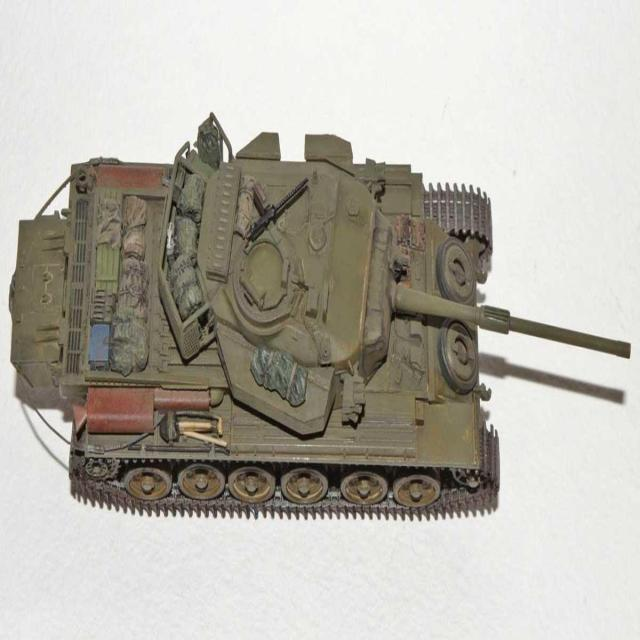Tanks: (23, 110, 527, 557)
